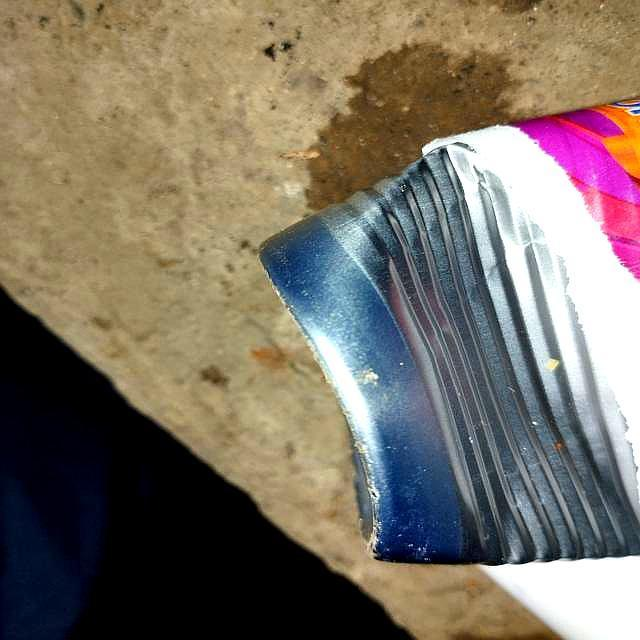Non-biodegradable: (245, 97, 640, 571)
